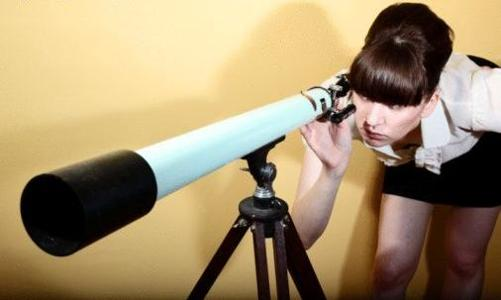person: (291, 3, 501, 300)
